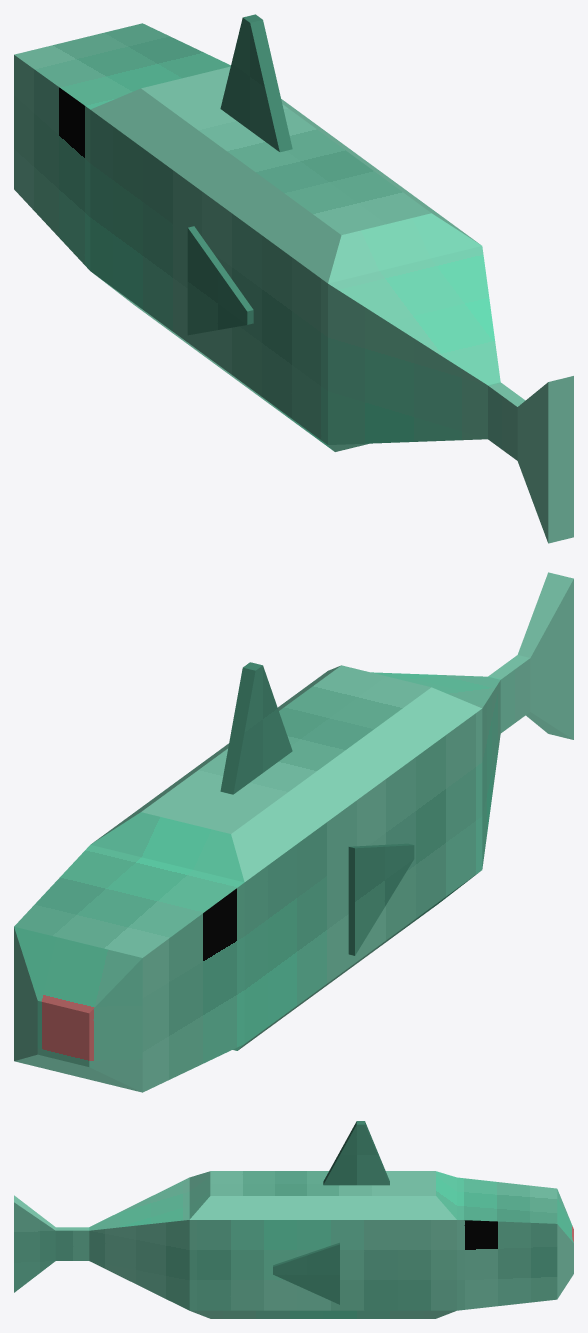
File: fish.fbx
3 views of the same model, one above another, from view 1: azimuth 30°, elevation 25°; view 2: azimuth 150°, elevation 25°; view 3: azimuth 270°, elevation 25° (orthographic). The views are drawn at different scales.
Parts seen in each view (by area): view 1: cuboid, cuboid_1, cuboid_2; view 2: cuboid, cuboid_1, cuboid_2; view 3: cuboid, cuboid_1, cuboid_3.
Part boxes in pixels (x1,y1,x2,y2): cuboid: (14, 23, 573, 543); cuboid_1: (220, 14, 292, 152); cuboid_2: (187, 226, 253, 335); cuboid: (14, 572, 573, 1092); cuboid_1: (220, 662, 292, 794); cuboid_2: (348, 843, 414, 955); cuboid: (14, 1171, 573, 1318); cuboid_1: (323, 1121, 389, 1185); cuboid_3: (273, 1242, 339, 1304).
Size of the model in its own units: 20.31 by 37.5 by 105.
Materials: 2 (2 with a texture image).
